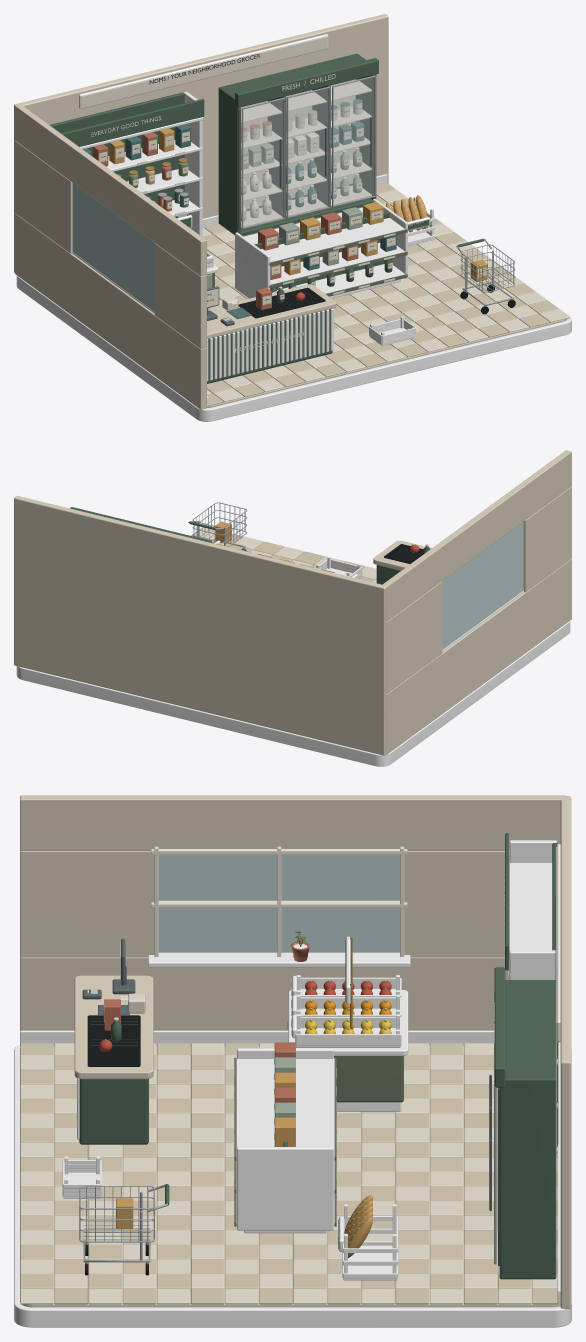
Rendered from neighborhood-grocery-store.glb.
3 renders of one model, top to bottom at view 1: azimuth 30°, elevation 25°; view 2: azimuth 150°, elevation 25°; view 3: azimuth 270°, elevation 25°, orthographic. The views are drawn at different scales.
Visible parts, largest first — view 1: Window wall lower export, Continuous rear wall export, Rounded walnut diorama plinth export, Window wall upper export, Window softly blue glazing export, Refrigerator glass door.001 export, Refrigerator glass door export, Refrigerator glass door.002 export, Window wall far export, Window wall near export, Grocer welcome header painted face export, Checkout lower body export (+30 smaller); view 2: Continuous rear wall export, Window wall lower export, Window wall upper export, Rounded walnut diorama plinth export, Window softly blue glazing export, Window wall far export, Window wall near export, Checkout stone counter export, Checkout belt recess export; view 3: Window wall upper export, Window wall lower export, Window softly blue glazing export, Window wall near export, Rounded walnut diorama plinth export, Fridge insulated side panel.001 export, Window wall far export, Grocery island end panel.001 export, Double sided aisle shelf.002 export, Continuous rear wall export, Continuous floor export, Fridge insulated top or base.001 export (+17 smaller).
Boxes of the visible parts, x1=… form: Window wall lower export: x1=15, y1=213, x2=206, y2=409; Continuous rear wall export: x1=14, y1=14, x2=388, y2=272; Rounded walnut diorama plinth export: x1=16, y1=186, x2=571, y2=421; Window wall upper export: x1=15, y1=104, x2=206, y2=276; Window softly blue glazing export: x1=72, y1=183, x2=154, y2=311; Refrigerator glass door.001 export: x1=288, y1=89, x2=328, y2=215; Refrigerator glass door export: x1=243, y1=100, x2=283, y2=225; Refrigerator glass door.002 export: x1=334, y1=78, x2=373, y2=203; Window wall far export: x1=15, y1=141, x2=72, y2=253; Window wall near export: x1=154, y1=243, x2=206, y2=348; Grocer welcome header painted face export: x1=81, y1=36, x2=327, y2=107; Checkout lower body export: x1=207, y1=309, x2=332, y2=383; Continuous rear wall export: x1=14, y1=495, x2=386, y2=755; Window wall lower export: x1=386, y1=559, x2=571, y2=754; Window wall upper export: x1=382, y1=450, x2=571, y2=621; Rounded walnut diorama plinth export: x1=16, y1=532, x2=570, y2=766; Window softly blue glazing export: x1=442, y1=522, x2=523, y2=649; Window wall far export: x1=386, y1=581, x2=442, y2=693; Window wall near export: x1=523, y1=486, x2=571, y2=592; Checkout stone counter export: x1=373, y1=540, x2=431, y2=570; Checkout belt recess export: x1=384, y1=544, x2=423, y2=563; Window wall upper export: x1=20, y1=795, x2=565, y2=850; Window wall lower export: x1=20, y1=957, x2=508, y2=1046; Window softly blue glazing export: x1=158, y1=854, x2=399, y2=952; Window wall near export: x1=20, y1=850, x2=154, y2=957; Rounded walnut diorama plinth export: x1=14, y1=1044, x2=571, y2=1327; Fridge insulated side panel.001 export: x1=499, y1=1081, x2=556, y2=1279; Window wall far export: x1=404, y1=851, x2=509, y2=957; Grocery island end panel.001 export: x1=237, y1=1147, x2=333, y2=1230; Double sided aisle shelf.002 export: x1=236, y1=1058, x2=334, y2=1160; Continuous rear wall export: x1=560, y1=796, x2=571, y2=1308; Continuous floor export: x1=20, y1=1045, x2=560, y2=1307; Fridge insulated top or base.001 export: x1=505, y1=980, x2=556, y2=1081.
Size of the model in its own units: 8.36 by 3.86 by 7.36.
